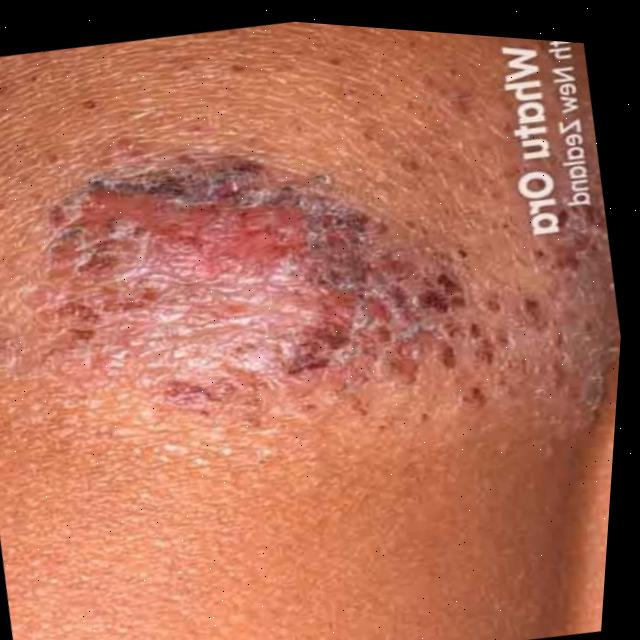Eczema: (9, 43, 637, 517)
